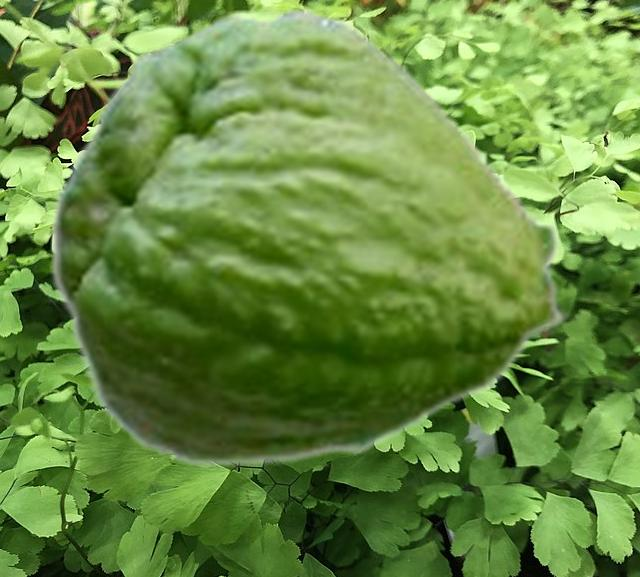sayote: (49, 6, 571, 469)
